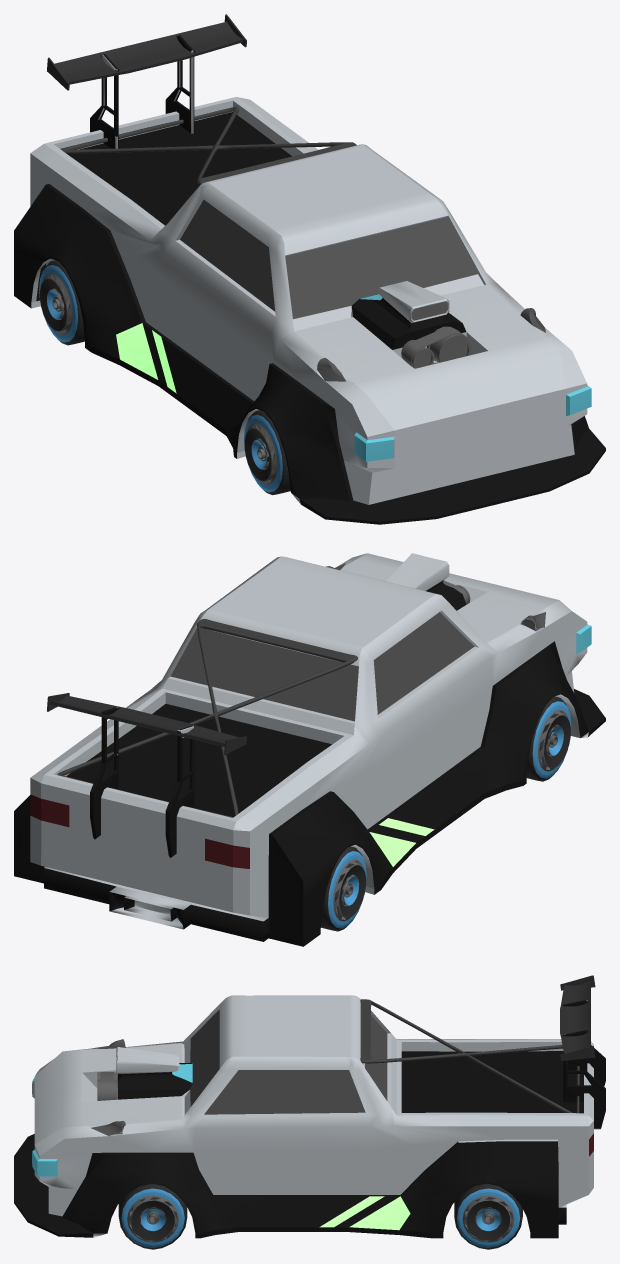
Rendered from Truck Shell Fix.fbx.
3 views of the same model, one above another, from view 1: azimuth 30°, elevation 25°; view 2: azimuth 150°, elevation 25°; view 3: azimuth 270°, elevation 25° (orthographic). The views are drawn at different scales.
Visible parts, largest first — view 1: Truck Shell, frWheel, brWheel; view 2: Truck Shell, brWheel, frWheel; view 3: Truck Shell, flWheel, flWheel.001.
Part boxes in pixels (x1,y1,x2,y2): Truck Shell: (14,14,605,524); frWheel: (244,410,290,495); brWheel: (39,260,84,345); Truck Shell: (14,553,605,946); brWheel: (321,846,366,931); frWheel: (526,696,571,781); Truck Shell: (14,975,605,1238); flWheel: (118,1183,187,1249); flWheel.001: (454,1183,522,1249).
Size of the model in its own units: 373 by 267 by 783.
